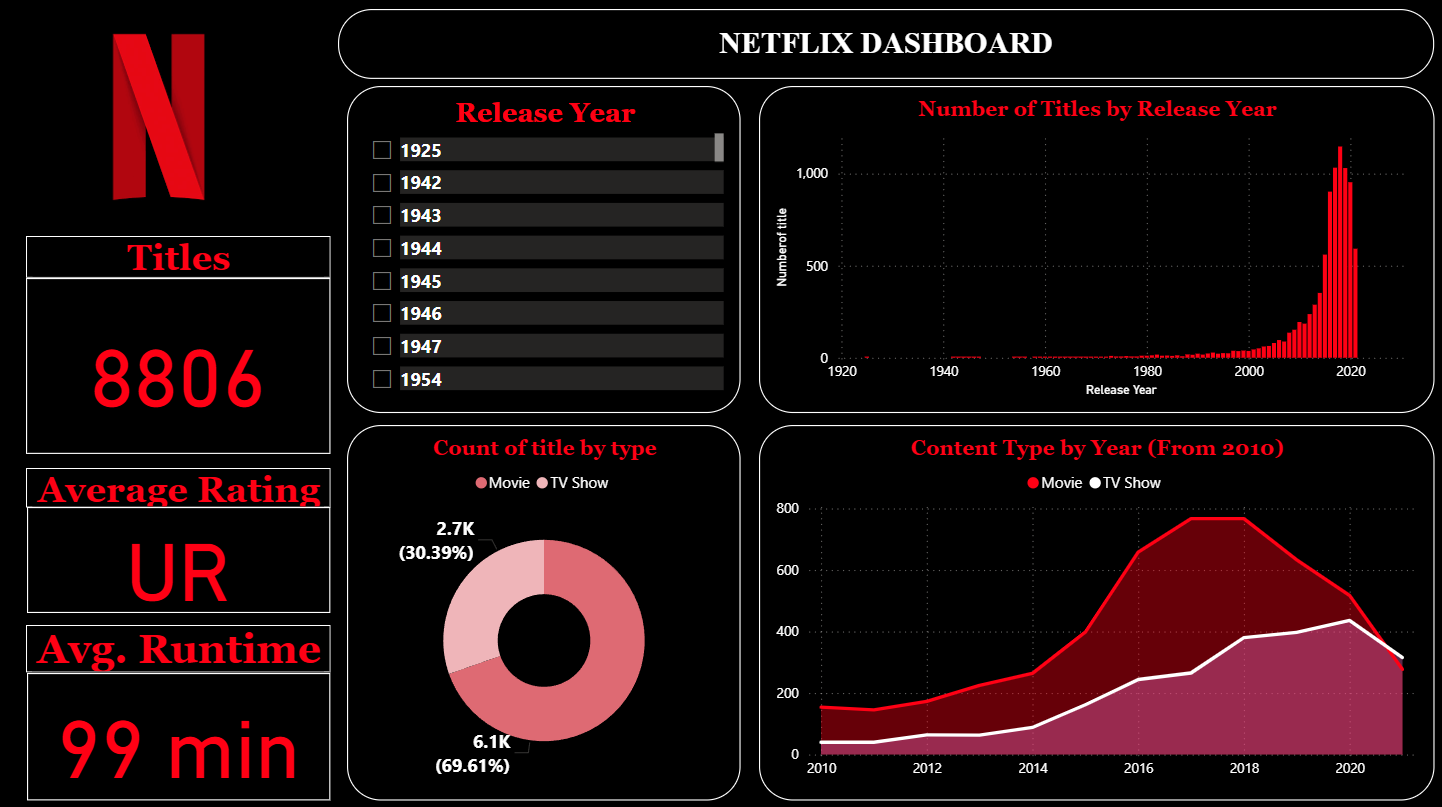

The dashboard page shown, as its layout file describes it:
{"tool":"powerbi","page":{"name":"Page 1","canvas":[1280,720],"ordinal":0},"visuals":[{"type":"clusteredColumnChart","title":"Number of Titles by Release Year","fields":{"Category":["netflix_titles.release_year"],"Y":["CountNonNull(netflix_titles.title)"]},"box":[673.9,78,598.5,290],"z":0},{"type":"textbox","box":[300.6,9.8,971.8,62.1],"z":1000},{"type":"card","title":"Titles","fields":{"Values":["Count(netflix_titles.title)"]},"box":[23.9,211,269.6,36.9],"z":1000,"group":"g1"},{"type":"card","title":"Average Rating","fields":{"Values":["Count(netflix_titles.title)"]},"box":[23.9,416.7,269.6,34.5],"z":1000,"group":"g2"},{"type":"card","title":"Avg. Runtime ","fields":{"Values":["Count(netflix_titles.title)"]},"box":[23.9,556,269.6,41.7],"z":1000,"group":"g3"},{"type":"donutChart","fields":{"Y":["CountNonNull(netflix_titles.title)"],"Category":["netflix_titles.type"]},"box":[308.6,378.6,349.4,332.5],"z":2000},{"type":"card","title":"Total Titles","fields":{"Values":["CountNonNull(netflix_titles.title)"]},"box":[23.9,247.9,269.6,156.4],"z":3000,"group":"g1"},{"type":"areaChart","title":"Content Type by Year (From 2010)","fields":{"Category":["netflix_titles.release_year"],"Y":["CountNonNull(netflix_titles.title)"],"Series":["netflix_titles.type"]},"box":[673.9,378.6,598.5,332.5],"z":3000},{"type":"card","title":"Total Titles","fields":{"Values":["Max(netflix_titles.rating)"]},"box":[24.7,451.6,268.7,94],"z":3000,"group":"g2"},{"type":"card","title":"Total Titles","fields":{"Values":["Max(netflix_titles.duration)"]},"box":[24.7,598.1,268.7,113.4],"z":3000,"group":"g3"},{"type":"group","id":"g1","title":"Group 2","box":[23.9,211,269.6,193.3],"z":4000},{"type":"image","box":[0,0,282.9,211],"z":5000},{"type":"slicer","title":"Release Year","fields":{"Values":["netflix_titles.release_year"]},"box":[308.6,78,349.4,290],"z":6000},{"type":"group","id":"g2","title":"Group 2","box":[23.9,416.7,269.6,128.9],"z":7000},{"type":"group","id":"g3","title":"Group 2","box":[23.9,556,269.6,155.2],"z":8000}]}

Visuals, with their boxes in screenshot pixels (x1, y1, x2, y2), scaled from the page's 1280x720 canvas onto the 1442x807 screenshot:
"Number of Titles by Release Year" clusteredColumnChart: (left=759, top=87, right=1433, bottom=412)
textbox: (left=339, top=11, right=1433, bottom=81)
"Titles" card: (left=27, top=236, right=331, bottom=278)
"Average Rating" card: (left=27, top=467, right=331, bottom=506)
"Avg. Runtime " card: (left=27, top=623, right=331, bottom=670)
donutChart - CountNonNull(netflix_titles.title) x netflix_titles.type: (left=348, top=424, right=741, bottom=797)
"Total Titles" card: (left=27, top=278, right=331, bottom=453)
"Content Type by Year (From 2010)" areaChart: (left=759, top=424, right=1433, bottom=797)
"Total Titles" card: (left=28, top=506, right=331, bottom=612)
"Total Titles" card: (left=28, top=670, right=331, bottom=797)
"Group 2" group: (left=27, top=236, right=331, bottom=453)
image: (left=0, top=0, right=319, bottom=236)
"Release Year" slicer: (left=348, top=87, right=741, bottom=412)
"Group 2" group: (left=27, top=467, right=331, bottom=612)
"Group 2" group: (left=27, top=623, right=331, bottom=797)
